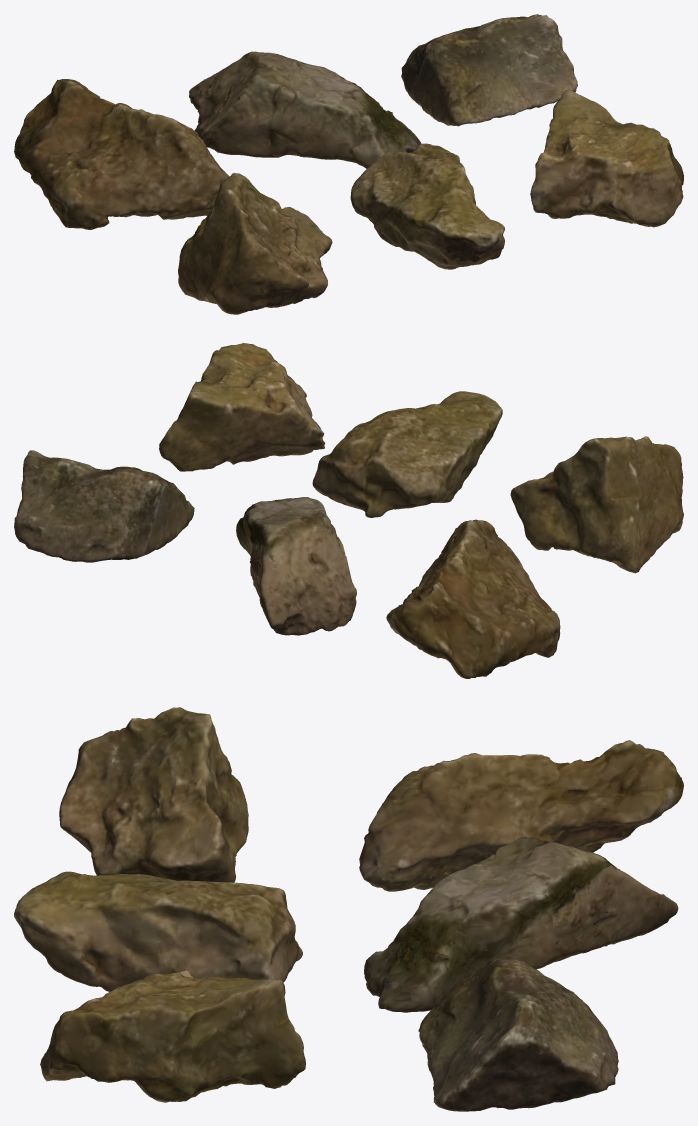
The model's file is rock_moss_set_01.glb.
3 views of the same model, one above another, from view 1: azimuth 30°, elevation 25°; view 2: azimuth 150°, elevation 25°; view 3: azimuth 270°, elevation 25° (orthographic). The views are drawn at different scales.
Parts seen in each view (by area): view 1: rock_moss_set_01_rock01; view 2: rock_moss_set_01_rock01; view 3: rock_moss_set_01_rock01.
Boxes of the visible parts, <box> form: rock_moss_set_01_rock01: <box>14,14,683,314</box>; rock_moss_set_01_rock01: <box>14,343,683,678</box>; rock_moss_set_01_rock01: <box>14,707,683,1111</box>.
Bounding box in the file's own units: 8 × 1.77 × 6.95.
Materials: 1 (1 with a texture image).
